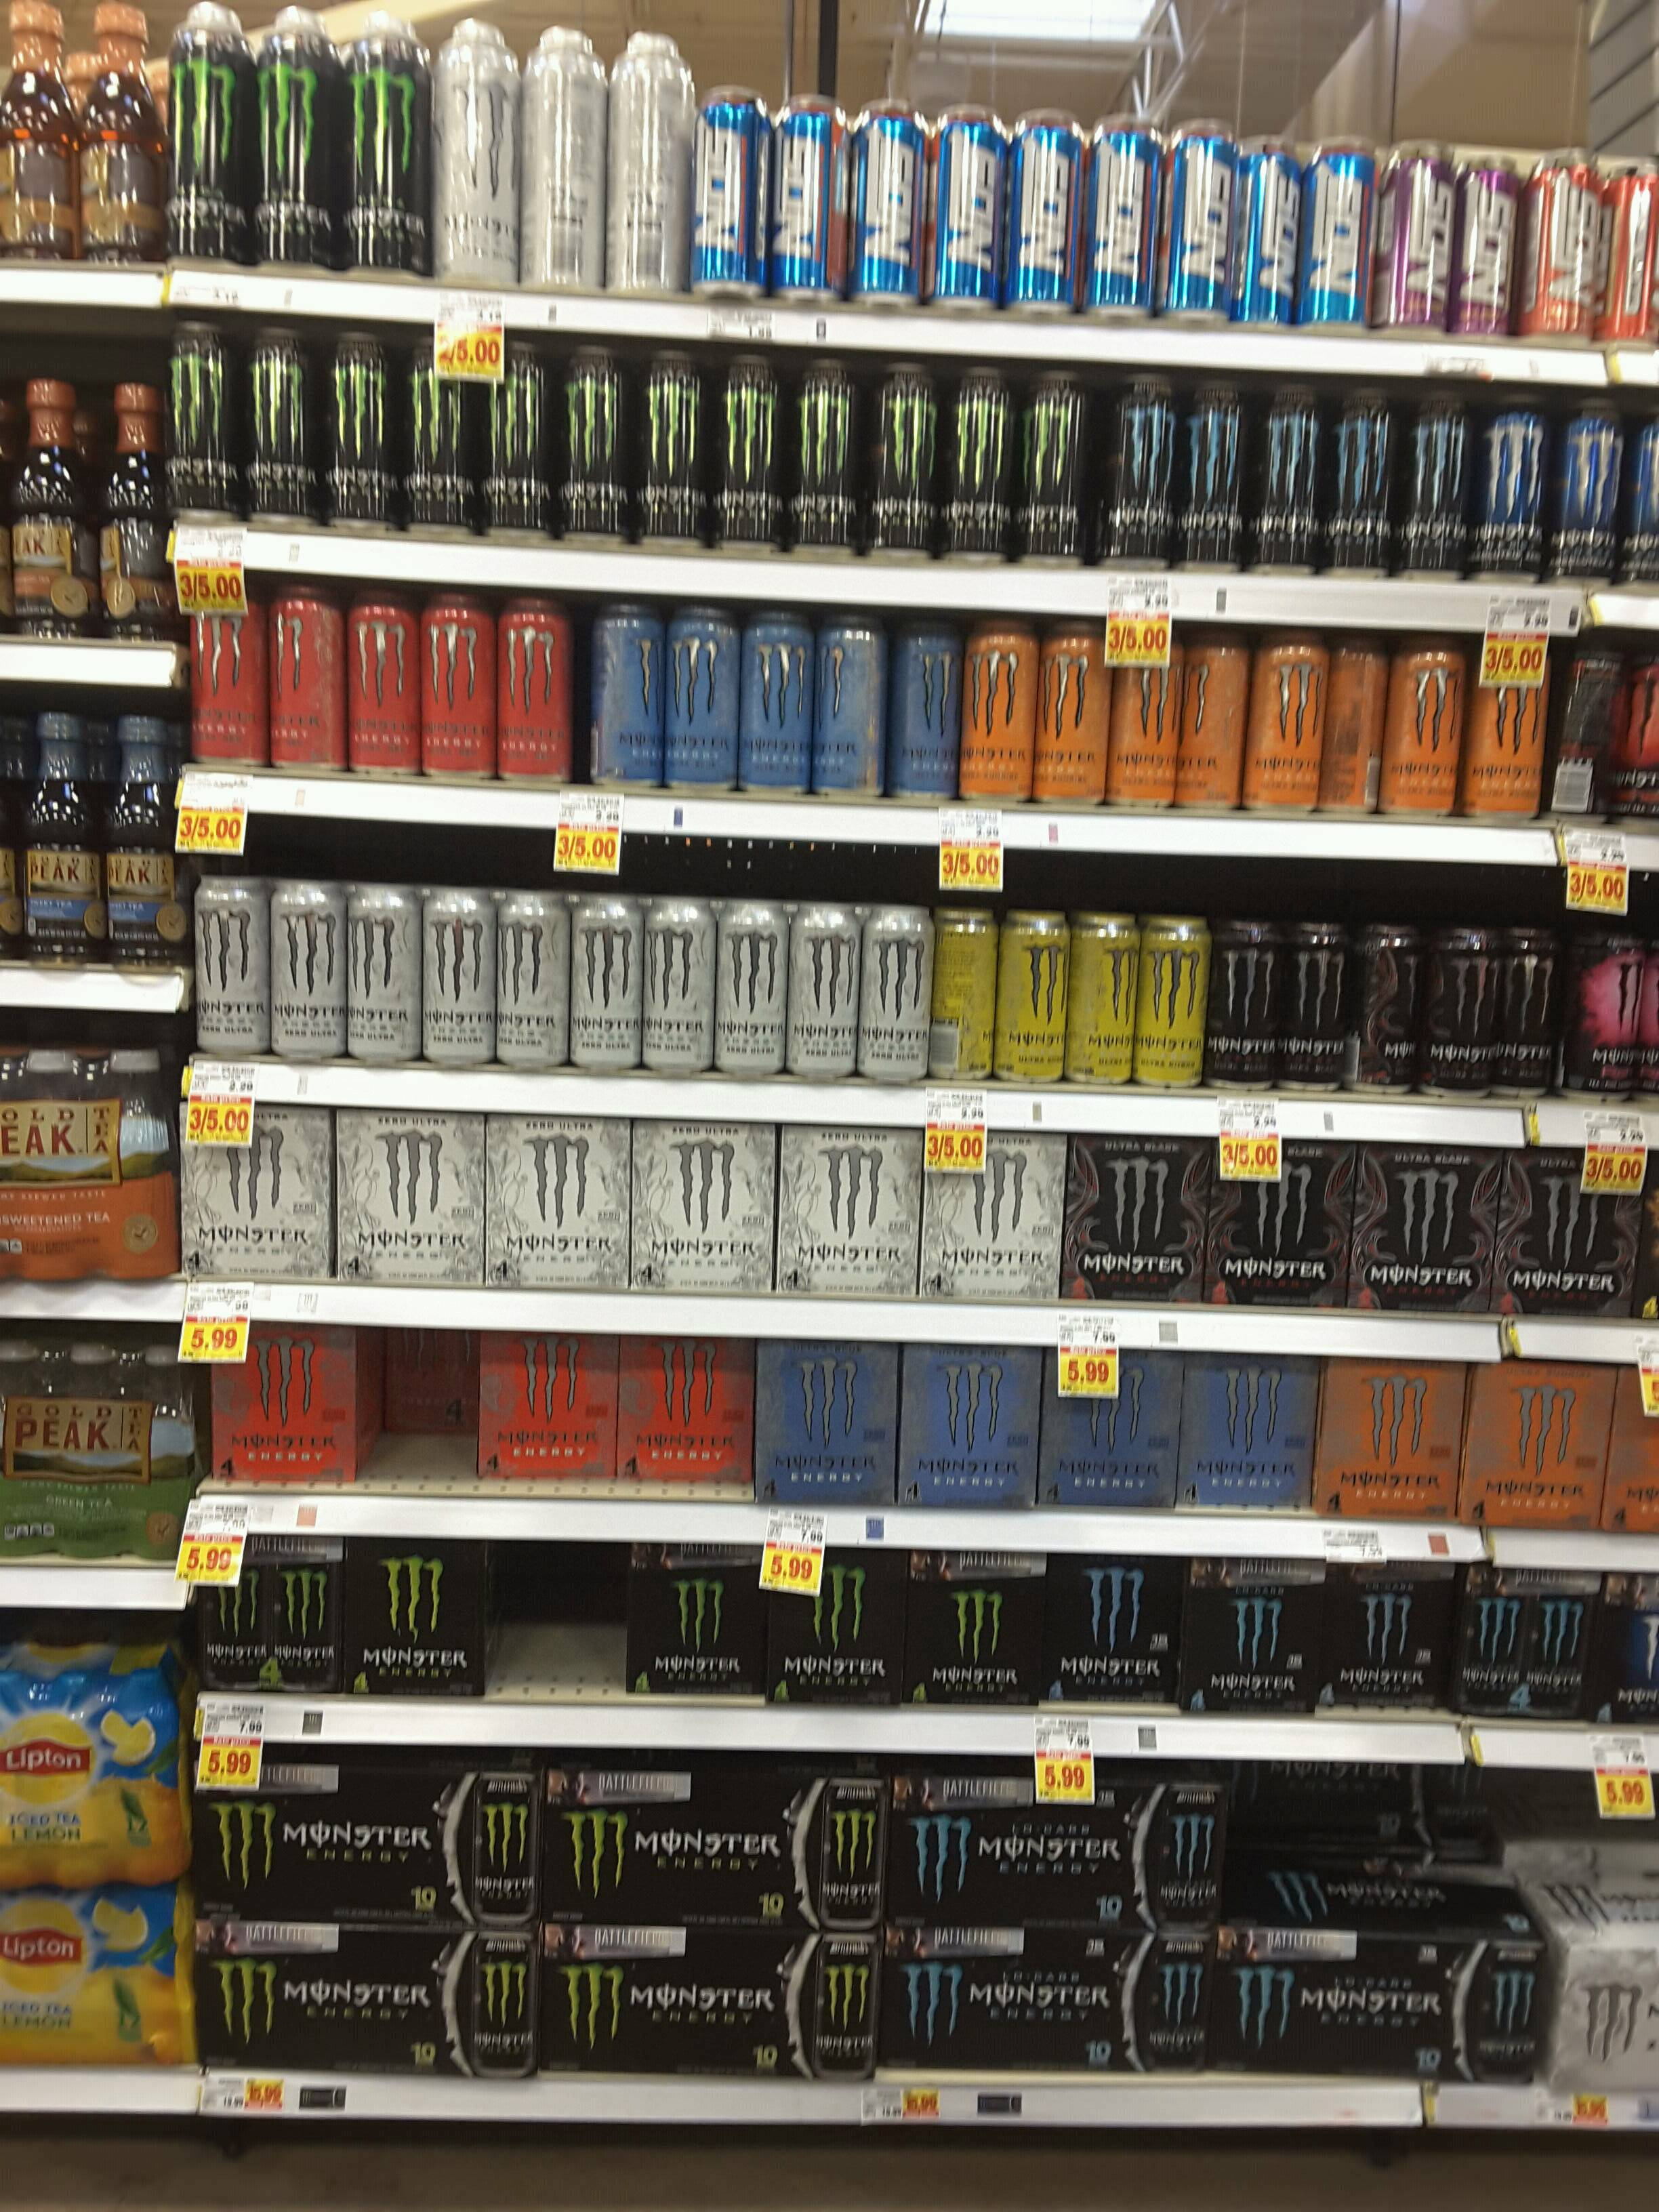Misplacement: (355, 1327, 477, 1493)
Out-of-stock: (488, 1541, 624, 1700)
